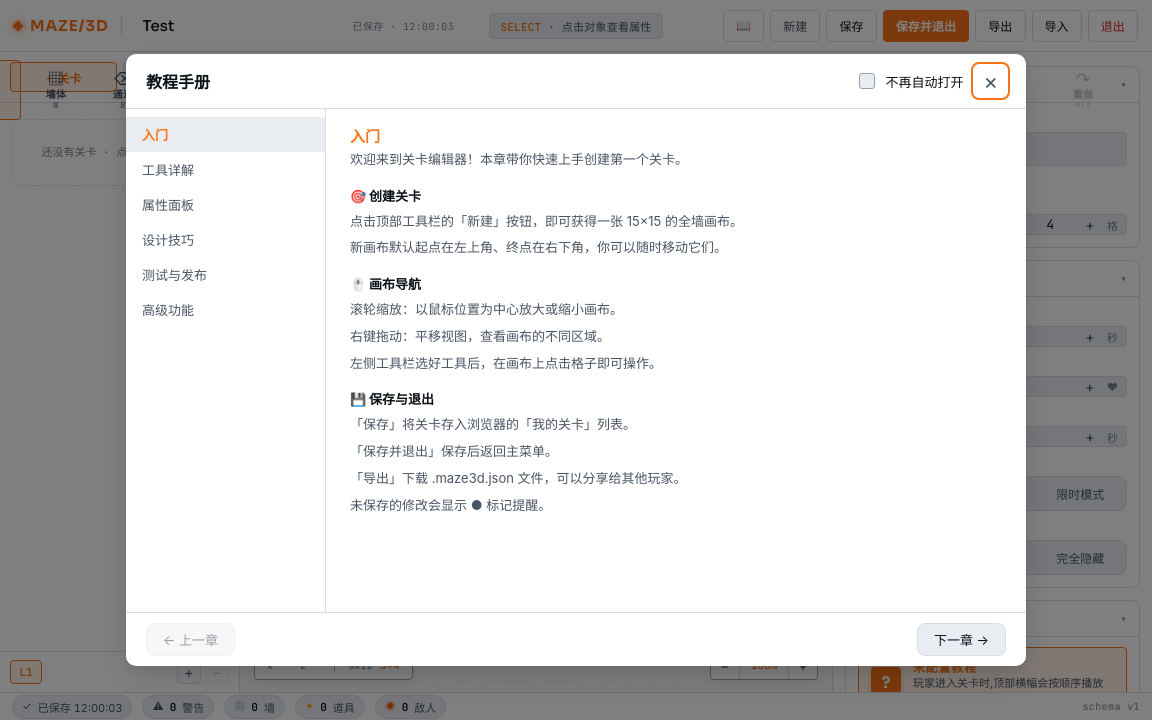
Scenario: EditorPage (P2-7 ConfirmProvider) › tutorial manual auto-open (H-25 / M-59) › does NOT re-open the manual immediately after the user closes it (infinite-loop bug)
// Close the manual (simulate clicking the × button)
Click the button with test id "editor-manual-close".
click(991, 81)  # box x1=975 y1=66 x2=1006 y2=96
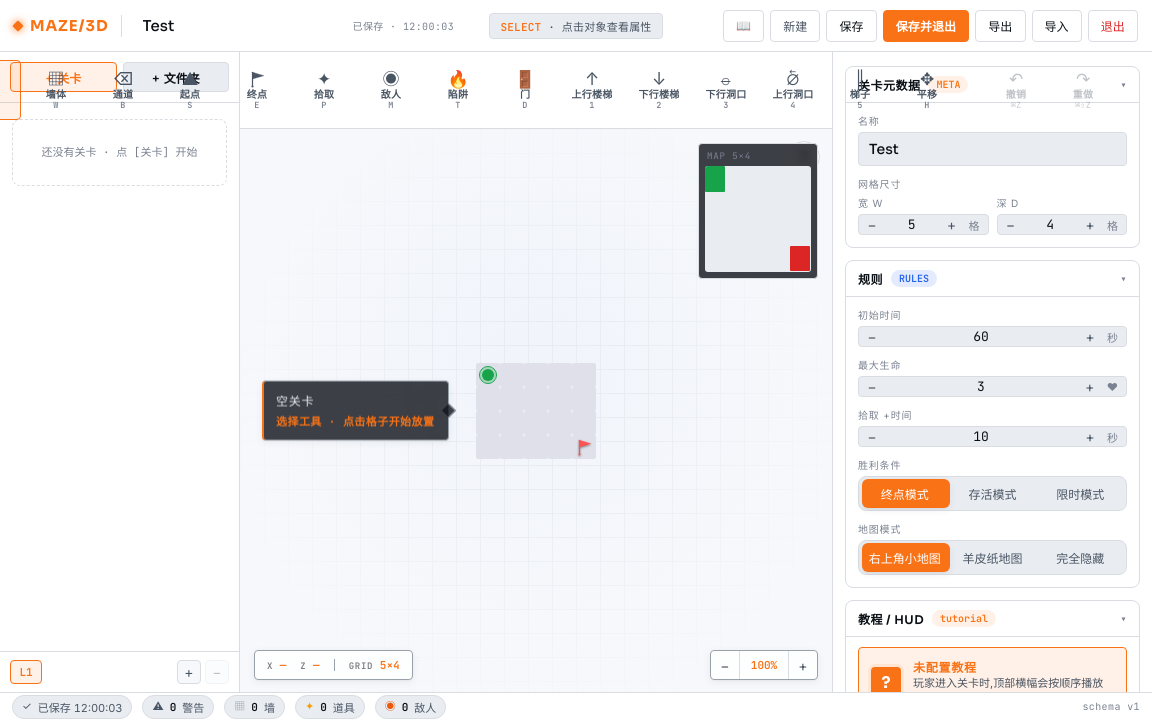
expect the dialog with test id "editor-manual-panel" is gone: met
